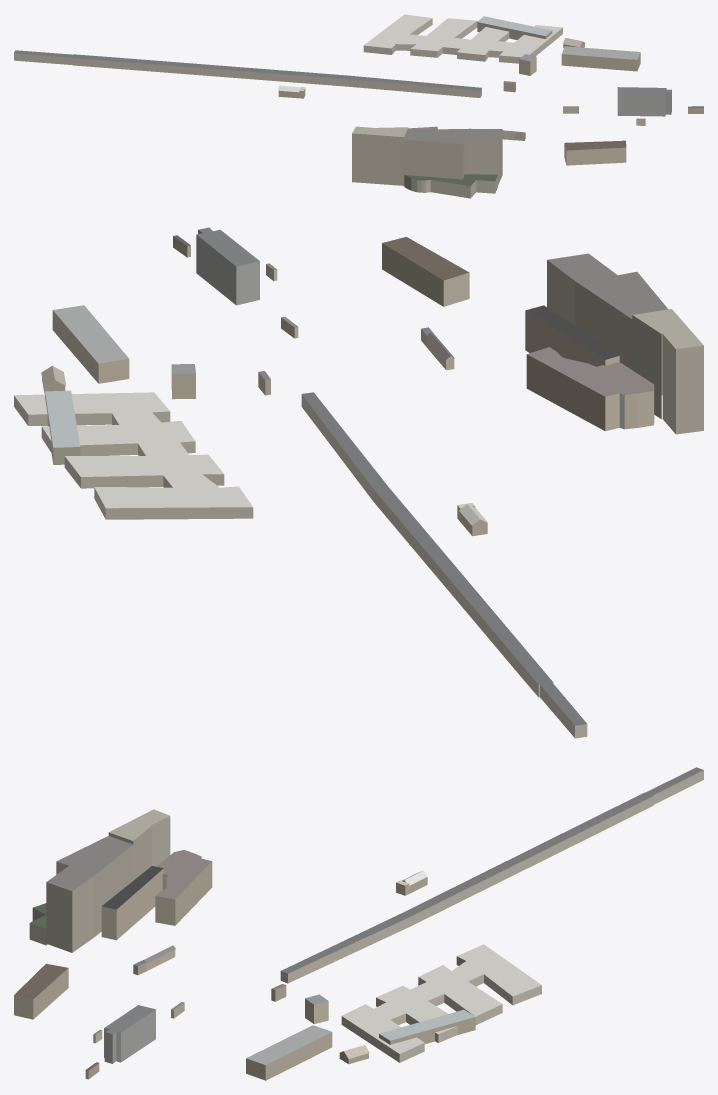
3 views of the same model, one above another, from view 1: azimuth 30°, elevation 25°; view 2: azimuth 150°, elevation 25°; view 3: azimuth 270°, elevation 25° (orthographic). The views are drawn at different scales.
Parts seen in each view (by area): view 1: tuile; view 2: tuile; view 3: tuile.
Part boxes in pixels (bbox=[...]): tuile: bbox=[14, 14, 703, 198]; tuile: bbox=[14, 227, 703, 738]; tuile: bbox=[14, 767, 703, 1080].
Size of the model in its own units: 381 by 39 by 364.
